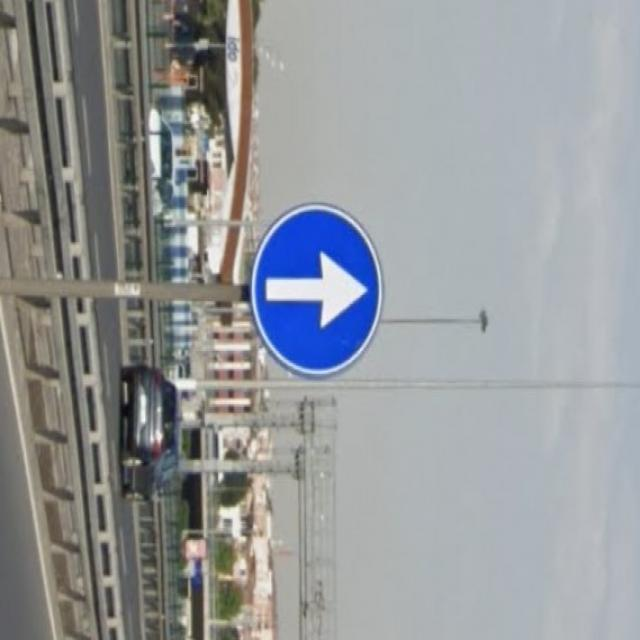Turn Right: (254, 204, 387, 372)
